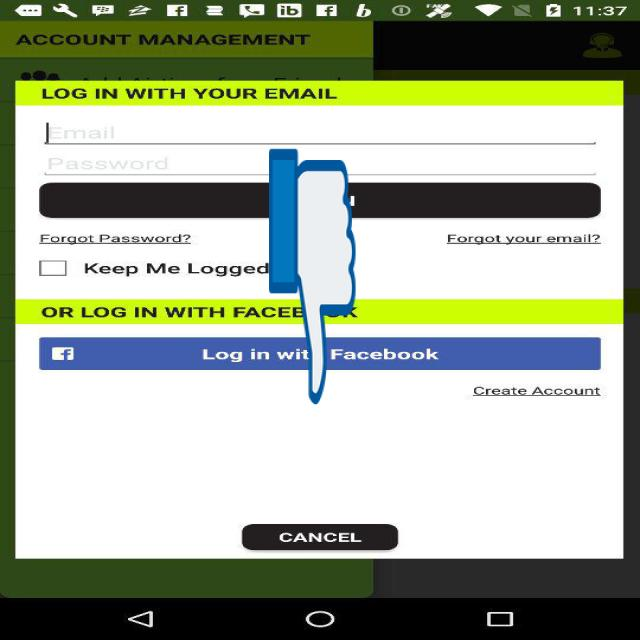obstruction: (269, 143, 356, 410)
